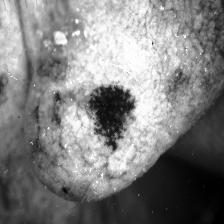Benign Marking or Mole: (89, 84, 139, 143)
